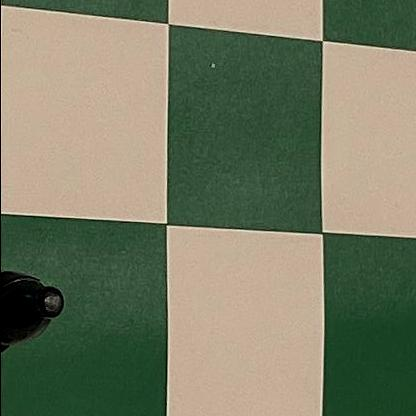black-bishop: (0, 255, 63, 380)
